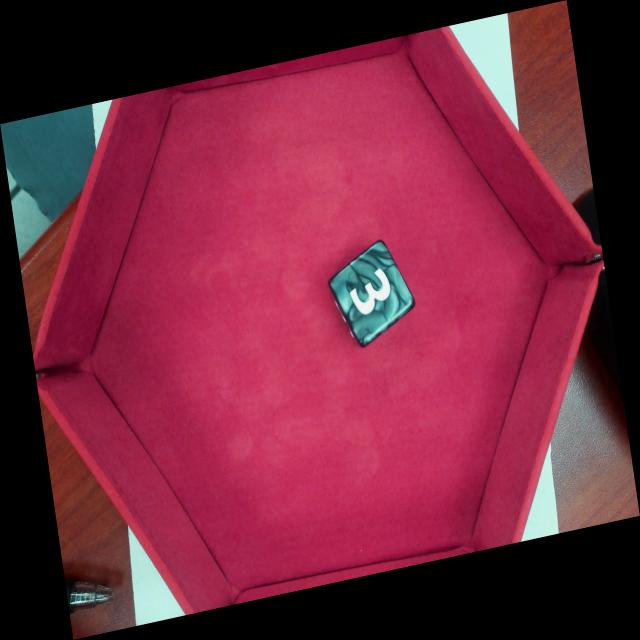dice: (329, 243, 418, 352)
